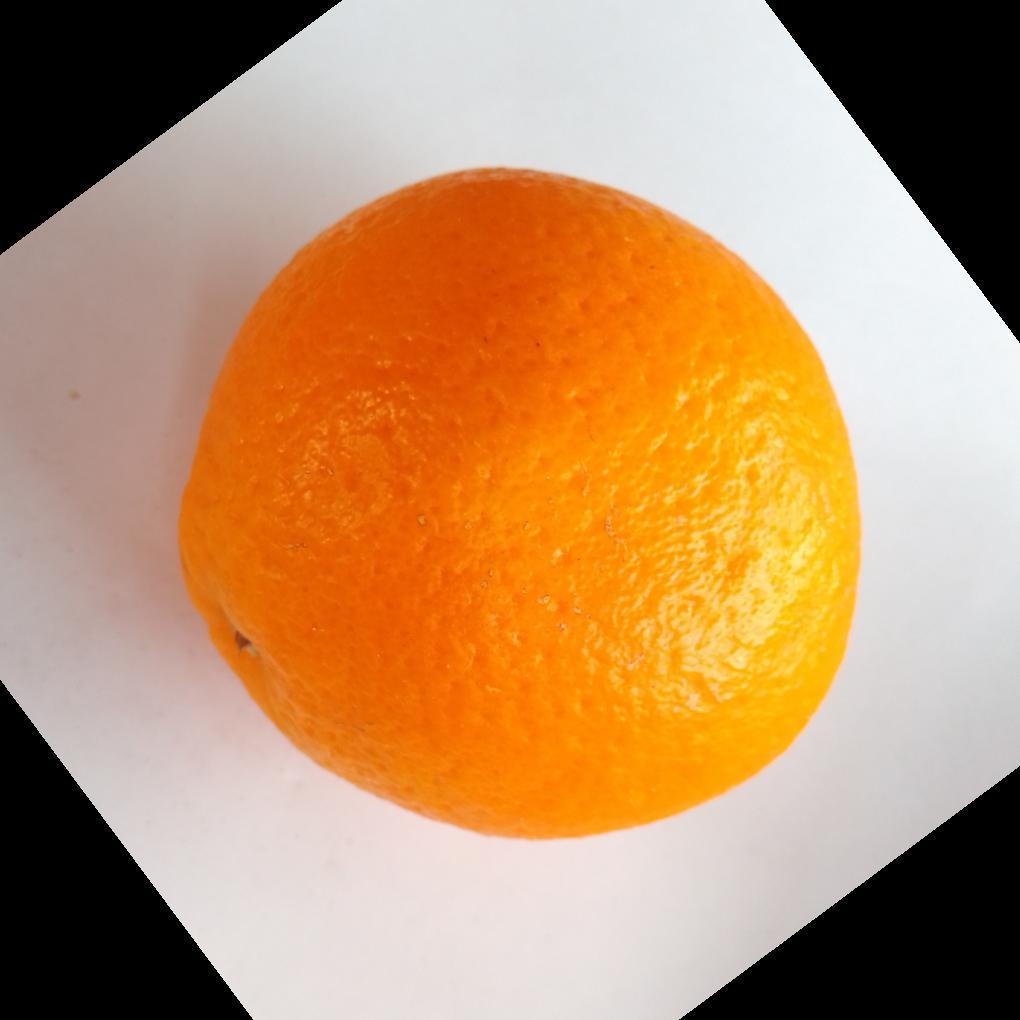FreshGuava: (171, 167, 865, 846)
